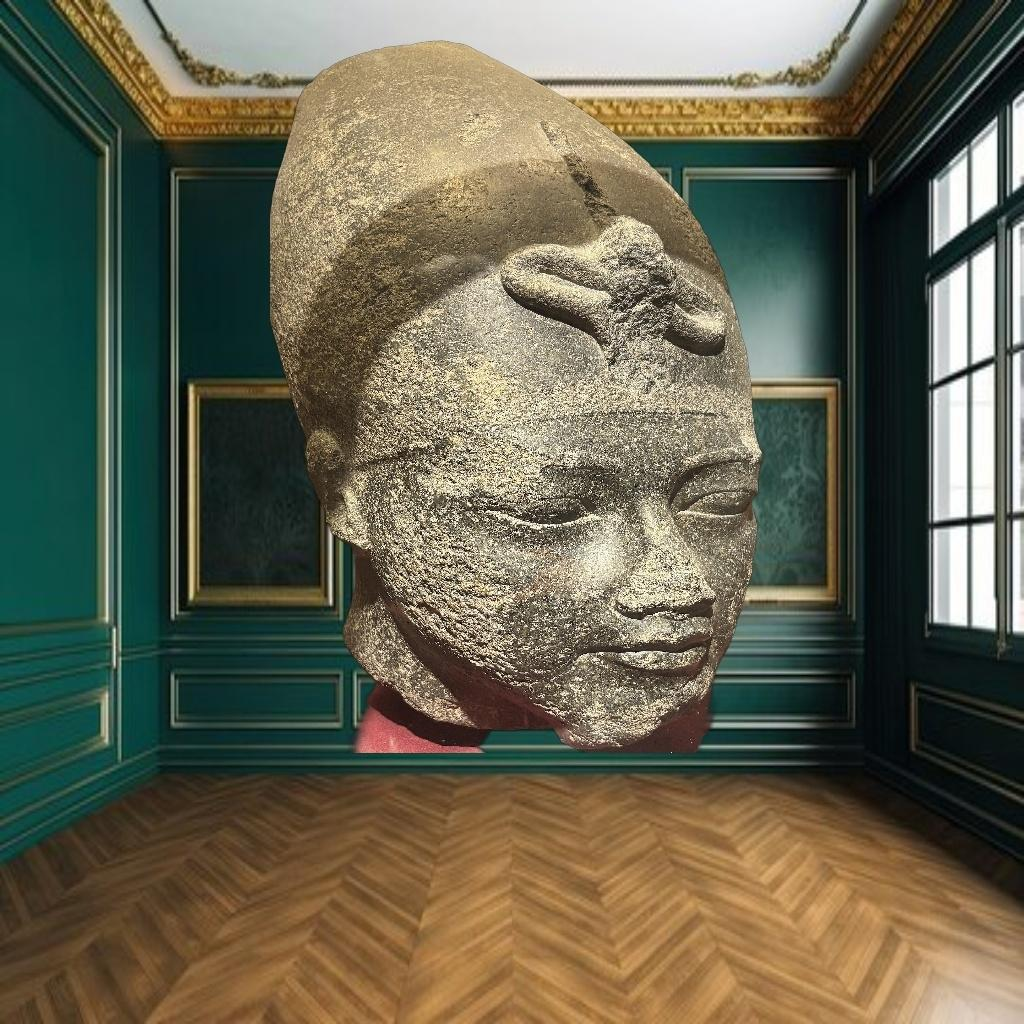Head Statue of Amenhotep III: (270, 35, 771, 753)
